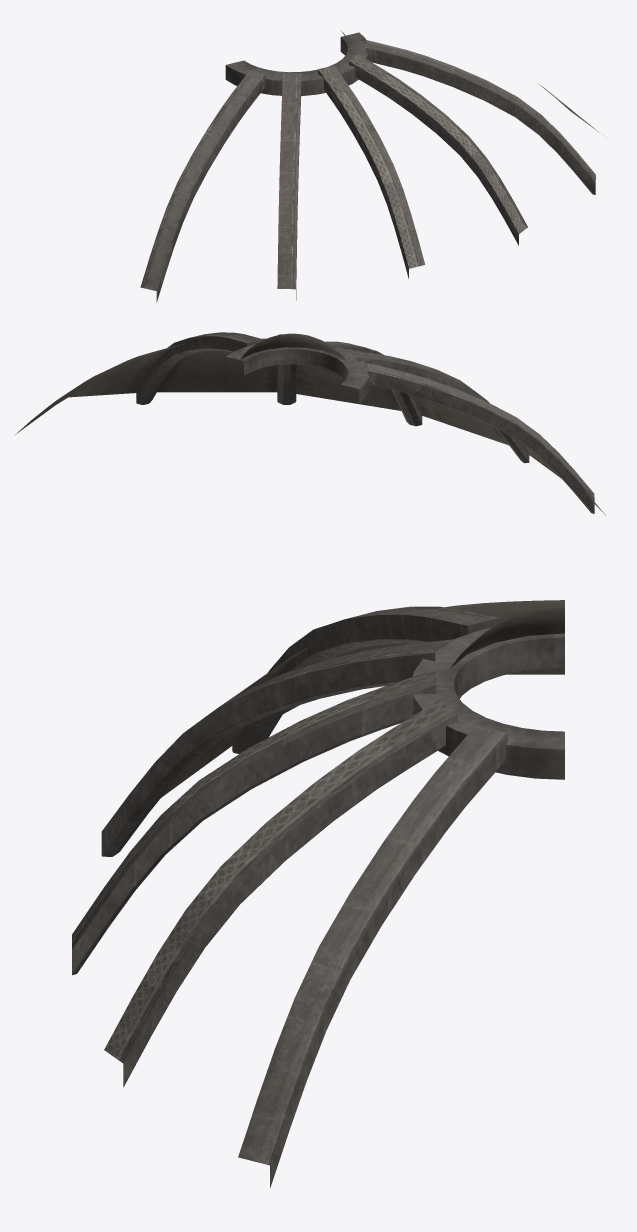
File: SM_Mausoleum_Ceiling.glb
3 renders of one model, top to bottom at view 1: azimuth 30°, elevation 25°; view 2: azimuth 150°, elevation 25°; view 3: azimuth 270°, elevation 25°, orthographic. The views are drawn at different scales.
Visible parts, largest first — view 1: SM_Mausoleum_Ceiling; view 2: SM_Mausoleum_Ceiling; view 3: SM_Mausoleum_Ceiling.
Part boxes in pixels (x1=…): SM_Mausoleum_Ceiling: x1=140, y1=31, x2=603, y2=302; SM_Mausoleum_Ceiling: x1=15, y1=332, x2=605, y2=515; SM_Mausoleum_Ceiling: x1=72, y1=600, x2=564, y2=1188.
Size of the model in its own units: 15 by 4.51 by 5.75.
Materials: 1 (1 with a texture image).
